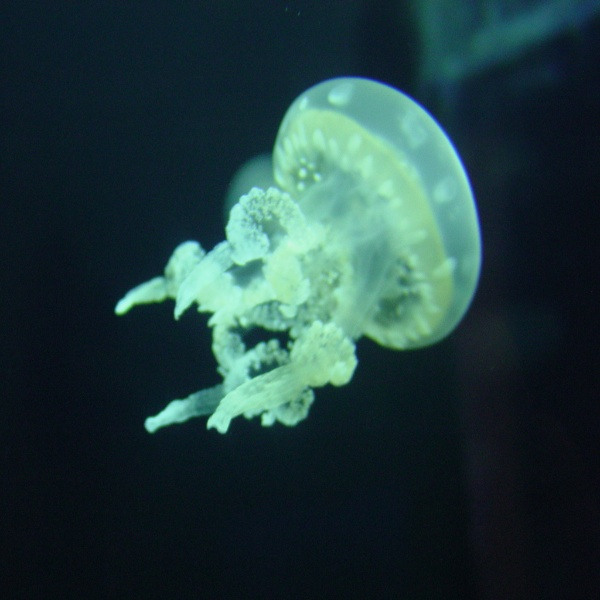Jellyfish: (114, 75, 482, 433)
